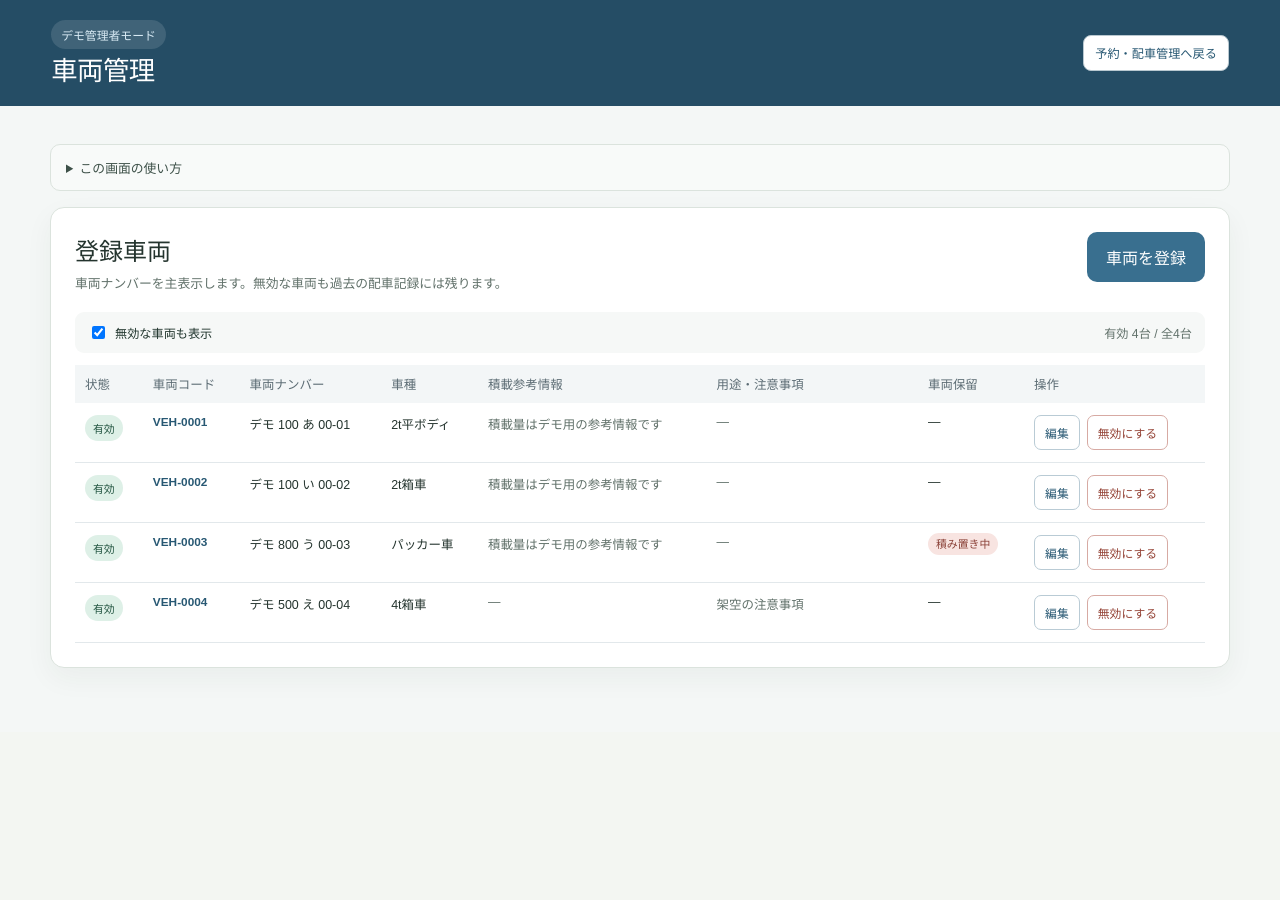
Scenario: 車両管理画面 › 未完了配車と車両保留がある車両は無効にできない
Click the button "無効にする" in the row of "VEH-0001" at (1127, 433), box x1=1087 y1=415 x2=1168 y2=450
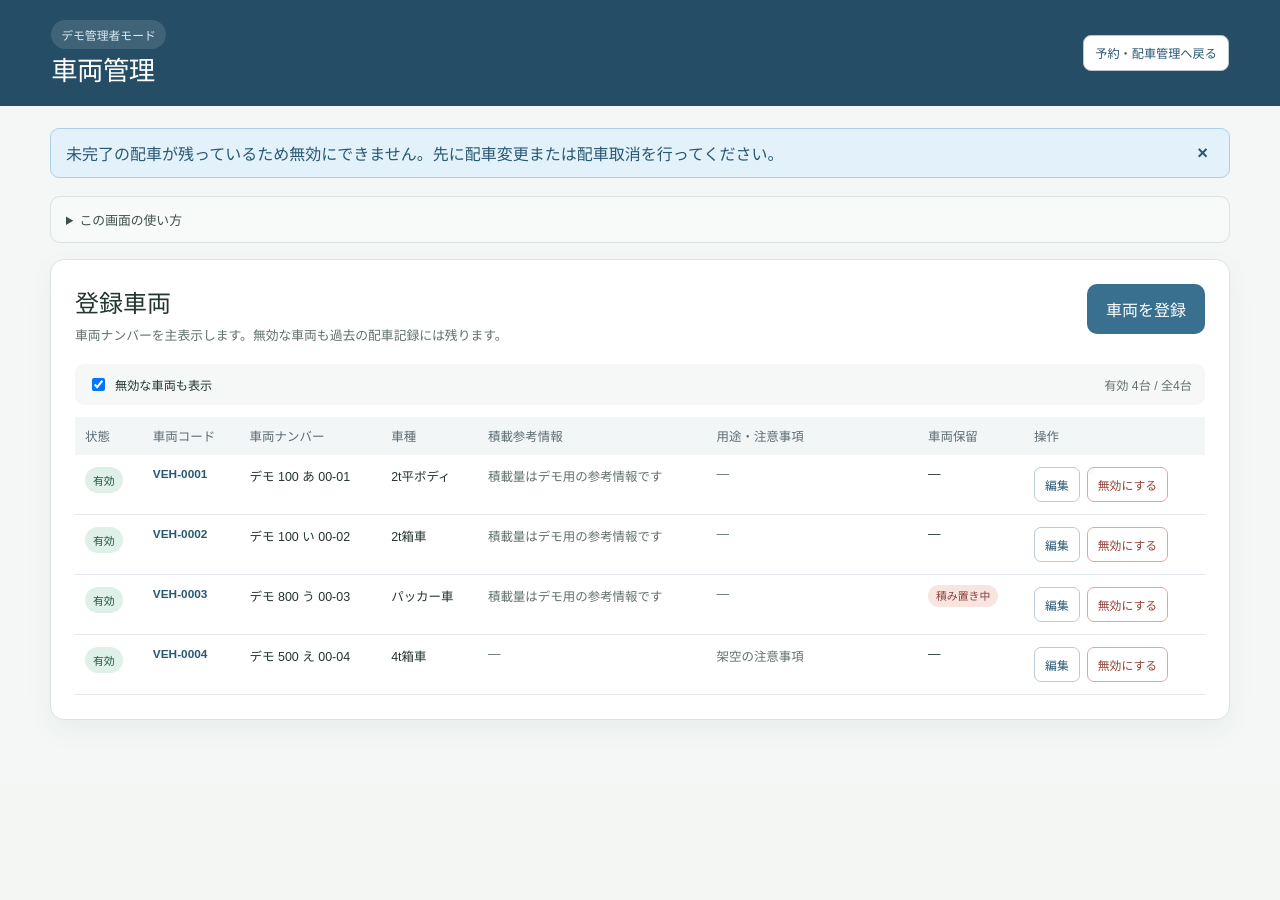
expect the text "有効" next to "VEH-0001" is shown: met, box x1=93 y1=475 x2=115 y2=487
expect the text "未完了の配車が残っているため無効にできません。先に配車変更または配車取消を行ってください。 ×" is shown: met, box x1=50 y1=128 x2=1230 y2=178
Click the button "無効にする" in the row of "VEH-0003" at (1127, 605), box x1=1087 y1=587 x2=1168 y2=622
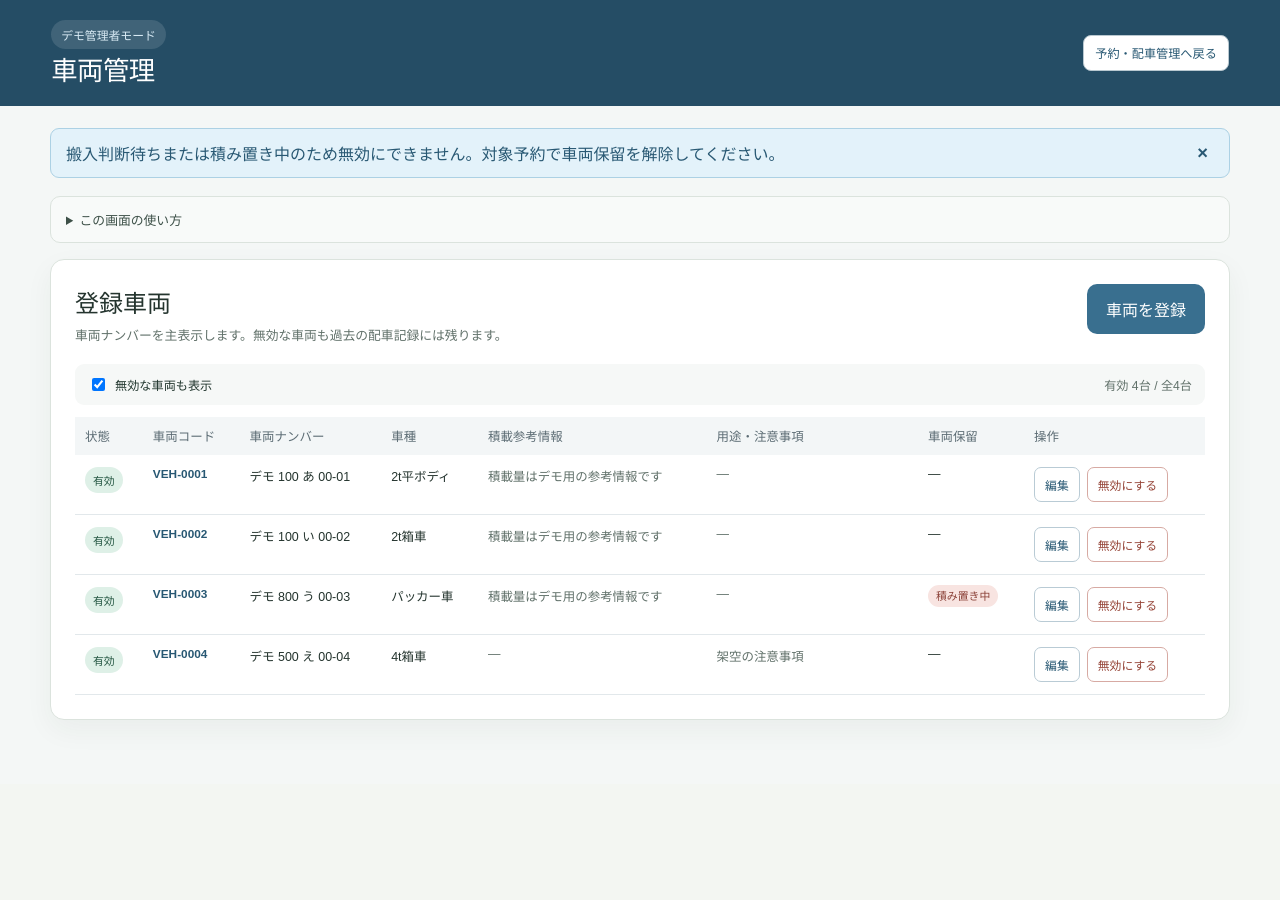
expect the text "搬入判断待ちまたは積み置き中のため無効にできません。対象予約で車両保留を解除してください。 ×" is shown: met, box x1=50 y1=128 x2=1230 y2=178
